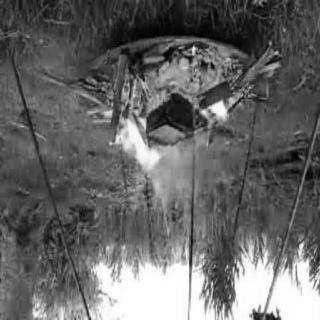Fire: (80, 57, 264, 249)
